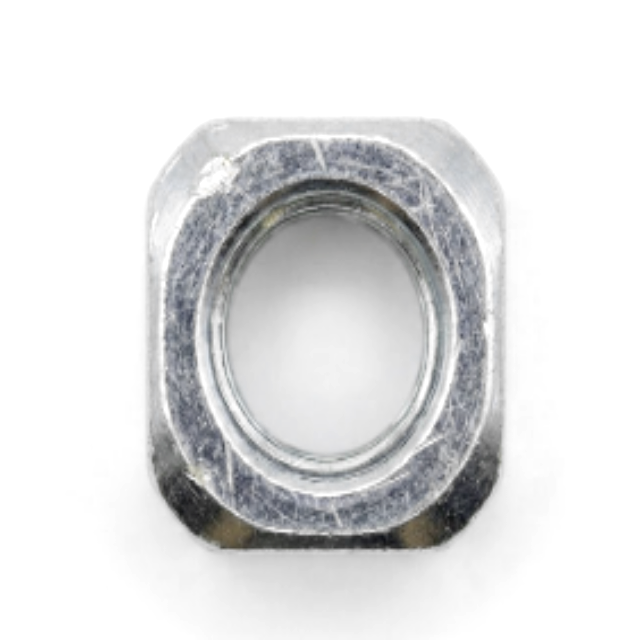defect: (165, 444, 232, 510), (193, 151, 248, 197), (305, 131, 332, 173)
